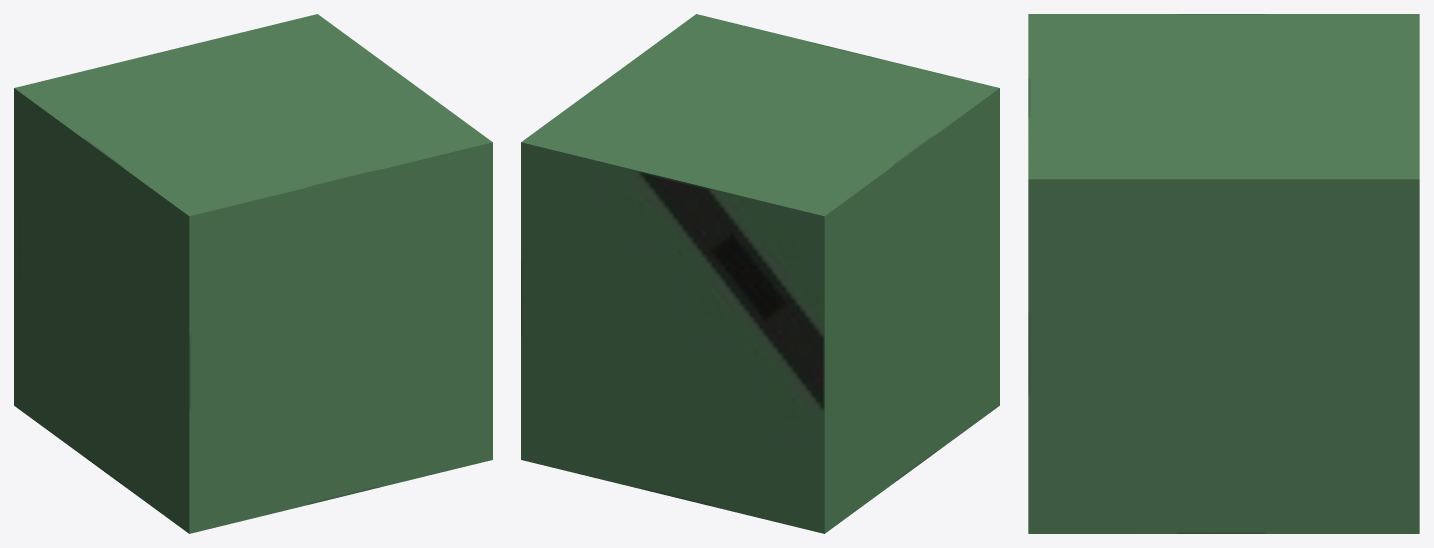
File: trackdiagupright.obj
The picture shows the model from 3 angles, left to right: view 1: azimuth 30°, elevation 25°; view 2: azimuth 150°, elevation 25°; view 3: azimuth 270°, elevation 25°; orthographic projection. The views are drawn at different scales.
Parts seen in each view (by area): view 1: generalCube.001, off.001; view 2: generalCube.001, off.001; view 3: generalCube.001, off.001.
Boxes of the visible parts, x1,y1,x2,y2 form: generalCube.001: [19, 18, 492, 533]; off.001: [14, 14, 327, 413]; generalCube.001: [527, 14, 999, 525]; off.001: [521, 134, 835, 533]; generalCube.001: [1028, 14, 1407, 533]; off.001: [1395, 14, 1419, 533].
Bounding box in the file's own units: 1 × 1 × 1.
Materials: 2 (1 with a texture image).
